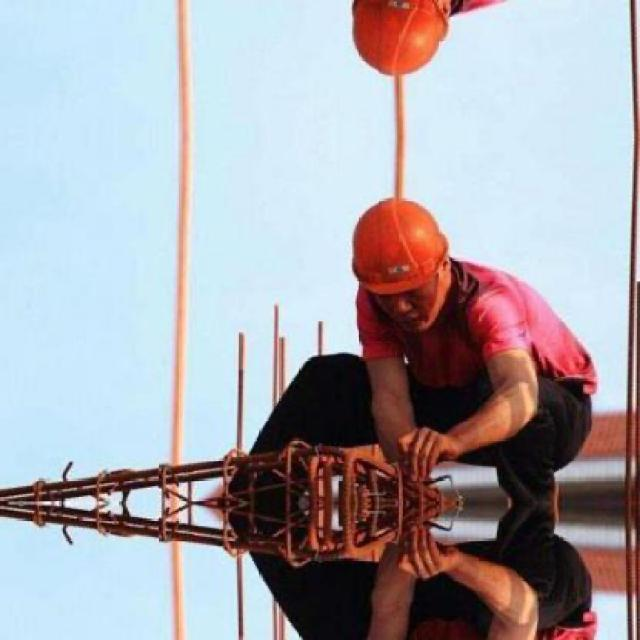con casco: (328, 187, 463, 345)
